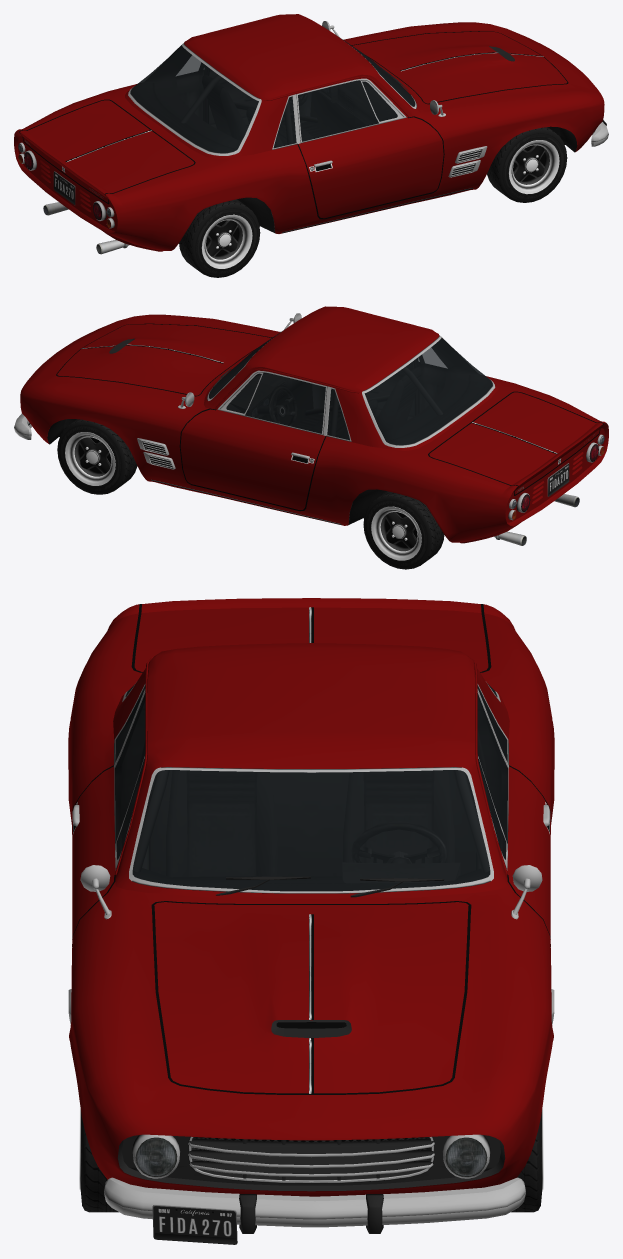
The model's file is CAR_FIDA_SANREMO.fbx.
3 renders of one model, top to bottom at view 1: azimuth 30°, elevation 25°; view 2: azimuth 150°, elevation 25°; view 3: azimuth 270°, elevation 25°, orthographic. The views are drawn at different scales.
Parts seen in each view (by area): view 1: Sanremo70_Body, Sanremo70_Interior, Sanremo70_Hood, Sanremo70_Glass_Rear, Sanremo70_Bottom, Sanremo70_WheelStock_RR, Sanremo70_WheelStock_FR, Sanremo70_Glass_Passenger, Sanremo70_Trim, Sanremo70_Glass_Body, Sanremo70_Windshield, Sanremo70_Numberplate_Rear; view 2: Sanremo70_Body, Sanremo70_Interior, Sanremo70_Hood, Sanremo70_Glass_Rear, Sanremo70_Bottom, Sanremo70_WheelStock_RL, Sanremo70_WheelStock_FL, Sanremo70_Glass_Driver, Sanremo70_Trim, Sanremo70_Glass_Body, Sanremo70_Steering_Wheels, Sanremo70_Windshield (+1 smaller); view 3: Sanremo70_Body, Sanremo70_Hood, Sanremo70_Interior, Sanremo70_Windshield, Sanremo70_Bottom, Sanremo70_Bumper_Front, Sanremo70_Trim, Sanremo70_Numberplate_Front, Sanremo70_Glass_Driver, Sanremo70_Glass_Passenger, Sanremo70_Headlights_Glass, Sanremo70_Headlights (+4 smaller).
Part boxes in pixels (bbox=[...]): Sanremo70_Body: bbox=[14, 14, 604, 251]; Sanremo70_Interior: bbox=[131, 45, 414, 208]; Sanremo70_Hood: bbox=[352, 31, 567, 103]; Sanremo70_Glass_Rear: bbox=[130, 45, 258, 153]; Sanremo70_Bottom: bbox=[18, 21, 577, 254]; Sanremo70_WheelStock_RR: bbox=[179, 199, 260, 277]; Sanremo70_WheelStock_FR: bbox=[487, 127, 567, 202]; Sanremo70_Glass_Passenger: bbox=[298, 80, 397, 141]; Sanremo70_Trim: bbox=[19, 31, 568, 233]; Sanremo70_Glass_Body: bbox=[273, 96, 296, 148]; Sanremo70_Windshield: bbox=[338, 36, 415, 106]; Sanremo70_Numberplate_Rear: bbox=[53, 171, 75, 204]; Sanremo70_Body: bbox=[20, 306, 608, 543]; Sanremo70_Interior: bbox=[209, 338, 492, 496]; Sanremo70_Hood: bbox=[57, 324, 271, 395]; Sanremo70_Glass_Rear: bbox=[364, 337, 492, 445]; Sanremo70_Bottom: bbox=[47, 313, 604, 545]; Sanremo70_WheelStock_RL: bbox=[363, 491, 444, 569]; Sanremo70_WheelStock_FL: bbox=[57, 419, 137, 494]; Sanremo70_Glass_Driver: bbox=[226, 372, 325, 433]; Sanremo70_Trim: bbox=[56, 323, 603, 524]; Sanremo70_Glass_Body: bbox=[327, 388, 349, 440]; Sanremo70_Steering_Wheels: bbox=[269, 385, 296, 426]; Sanremo70_Windshield: bbox=[209, 329, 284, 398]; Sanremo70_Body: bbox=[68, 598, 554, 1196]; Sanremo70_Hood: bbox=[154, 902, 468, 1093]; Sanremo70_Interior: bbox=[115, 687, 507, 893]; Sanremo70_Windshield: bbox=[132, 770, 490, 891]; Sanremo70_Bottom: bbox=[68, 682, 554, 1191]; Sanremo70_Bumper_Front: bbox=[104, 1177, 525, 1233]; Sanremo70_Trim: bbox=[71, 604, 551, 1094]; Sanremo70_Numberplate_Front: bbox=[152, 1205, 237, 1244]; Sanremo70_Glass_Driver: bbox=[477, 693, 507, 859]; Sanremo70_Glass_Passenger: bbox=[115, 693, 145, 859]; Sanremo70_Headlights_Glass: bbox=[135, 1137, 487, 1176]; Sanremo70_Headlights: bbox=[136, 1138, 486, 1176].
Size of the model in its own units: 4.18 by 1.25 by 1.71.
